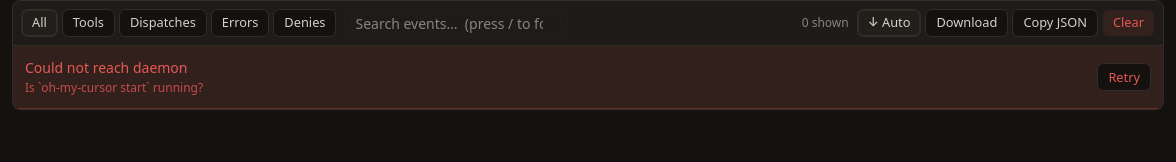
Scenario: EventsTab: retry on fetch failure (P1-1) › renders error state with Retry button and recovers on retry
Check: the message "Could not reach daemon Is `oh-my-cursor start` running? Retry" is shown, box [13,46,1163,109]
Check: the text "Could not reach daemon" is shown, box [25,58,203,78]
Click the button with test id "events-retry" at (1124, 77), box [1097,63,1151,91]
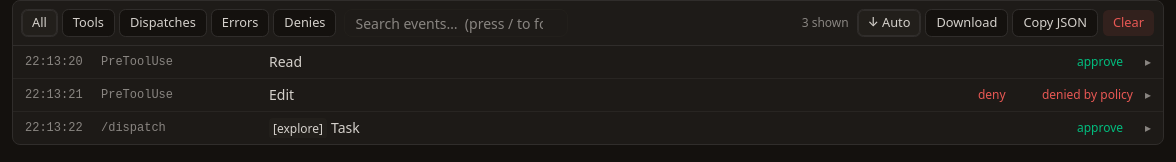
Check: the element with test id "events-list" is shown, box [13,46,1163,144]
Check: the number of buttons with test id "event-row" is 3, box [13,46,1163,78]; [13,79,1163,111]; [13,112,1163,144]
